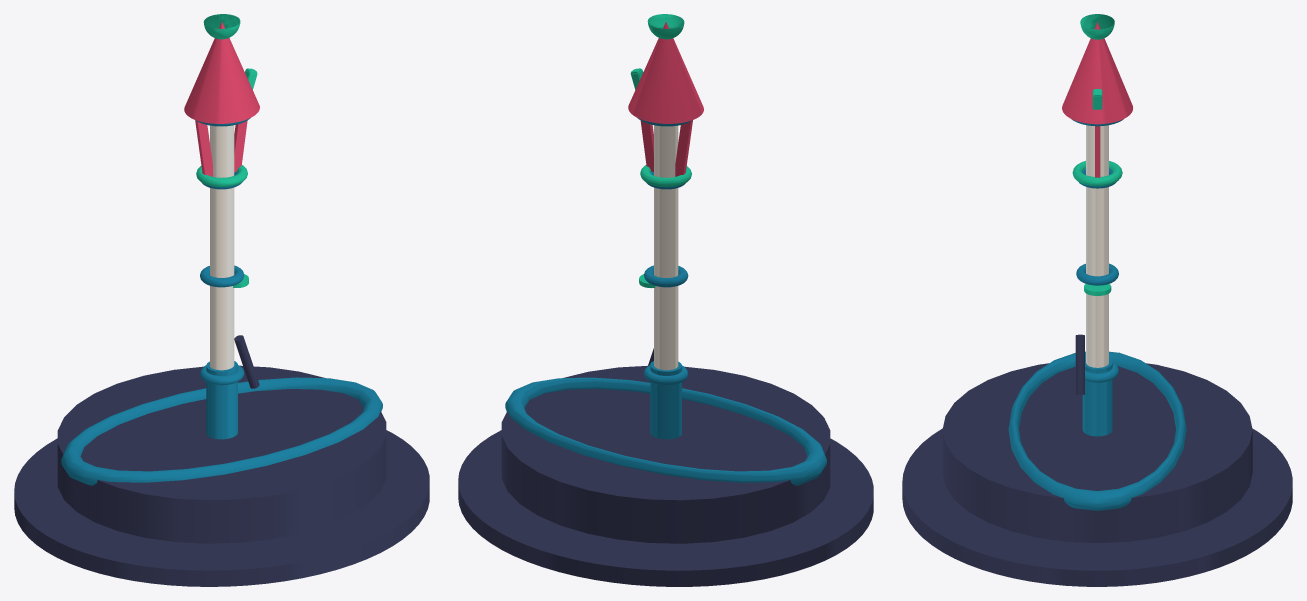
The model's file is 0467_机械图鉴_快艇.glb.
3 renders of one model, left to right at view 1: azimuth 30°, elevation 25°; view 2: azimuth 150°, elevation 25°; view 3: azimuth 270°, elevation 25°, orthographic.
Visible parts, largest first — view 1: card_0467; view 2: card_0467; view 3: card_0467.
Part boxes in pixels (bbox=[...]): card_0467: bbox=[14, 14, 429, 586]; card_0467: bbox=[458, 14, 873, 586]; card_0467: bbox=[902, 14, 1292, 586].
Bounding box in the file's own units: 0.7971 × 1 × 0.7422.
